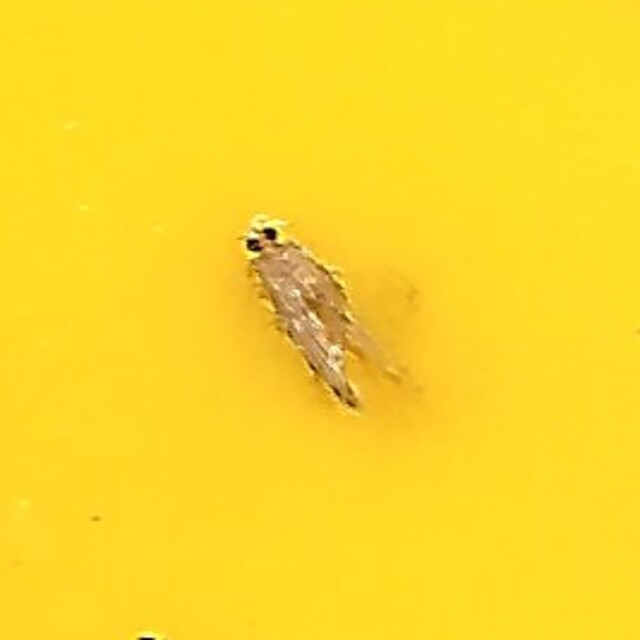Trichoptera: (240, 216, 400, 424)
